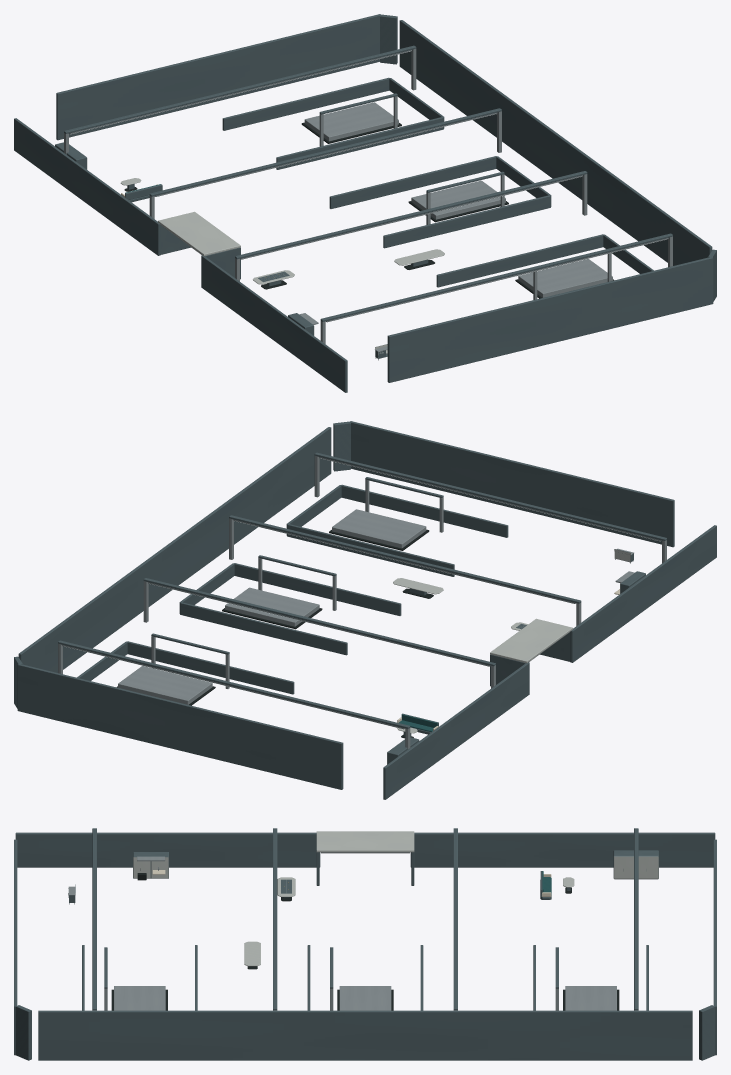
File: SOL_D01_directory_04_source001.glb
3 renders of one model, top to bottom at view 1: azimuth 30°, elevation 25°; view 2: azimuth 150°, elevation 25°; view 3: azimuth 270°, elevation 25°, orthographic. The views are drawn at different scales.
Parts seen in each view (by area): view 1: A_edge1, A_edge-1, A_back, A_inward_screen1, A_inward_screen-1, A_exchange_group2_side_a, A_exchange_group1_side_a, A_exchange_group1_side_b, A_exchange_group0_side_a, A_staging_cradle0, A_staging_cradle2, A_arrival_lintel (+13 smaller); view 2: A_edge-1, A_edge1, A_back, A_inward_screen-1, A_inward_screen1, A_exchange_group1_side_a, A_exchange_group0_side_b, A_exchange_group1_side_b, A_exchange_group2_side_b, A_staging_cradle2, A_staging_cradle0, A_arrival_lintel (+13 smaller); view 3: A_back, A_inward_screen1, A_inward_screen-1, A_arrival_lintel, A_staging_cradle1, A_staging_cradle0, A_staging_cradle2, A_working_rib0_beam, A_working_rib3_beam, A_working_rib1_beam, A_working_rib2_beam, A_folded_return-1 (+6 smaller).
Part boxes in pixels (x1,y1,x2,y2): A_edge1: [387, 257, 713, 382]; A_edge-1: [56, 14, 380, 140]; A_back: [399, 20, 712, 265]; A_inward_screen1: [201, 255, 347, 392]; A_inward_screen-1: [14, 118, 160, 255]; A_exchange_group2_side_a: [436, 234, 603, 287]; A_exchange_group1_side_a: [329, 156, 496, 208]; A_exchange_group1_side_b: [383, 195, 550, 248]; A_exchange_group0_side_a: [222, 77, 389, 130]; A_staging_cradle0: [304, 102, 398, 141]; A_staging_cradle2: [518, 259, 612, 297]; A_arrival_lintel: [158, 211, 240, 256]; A_edge-1: [17, 664, 343, 789]; A_edge1: [350, 421, 674, 547]; A_back: [18, 427, 331, 672]; A_inward_screen-1: [383, 662, 529, 799]; A_inward_screen1: [570, 525, 716, 662]; A_exchange_group1_side_a: [180, 602, 347, 655]; A_exchange_group0_side_b: [127, 641, 294, 694]; A_exchange_group1_side_b: [234, 563, 401, 615]; A_exchange_group2_side_b: [341, 484, 508, 537]; A_staging_cradle2: [332, 509, 426, 548]; A_staging_cradle0: [118, 666, 212, 704]; A_arrival_lintel: [490, 618, 572, 663]; A_back: [38, 1010, 692, 1060]; A_inward_screen1: [15, 832, 320, 867]; A_inward_screen-1: [410, 832, 715, 867]; A_arrival_lintel: [316, 831, 414, 852]; A_staging_cradle1: [339, 986, 391, 1010]; A_staging_cradle0: [565, 986, 616, 1010]; A_staging_cradle2: [114, 986, 165, 1010]; A_working_rib0_beam: [634, 828, 638, 1010]; A_working_rib3_beam: [92, 828, 96, 1010]; A_working_rib1_beam: [453, 828, 457, 1010]; A_working_rib2_beam: [273, 828, 277, 1010]; A_folded_return-1: [699, 1005, 715, 1060].
Size of the model in its own units: 40.79 by 4.8 by 62.3.
Materials: 12 (12 with a texture image).
